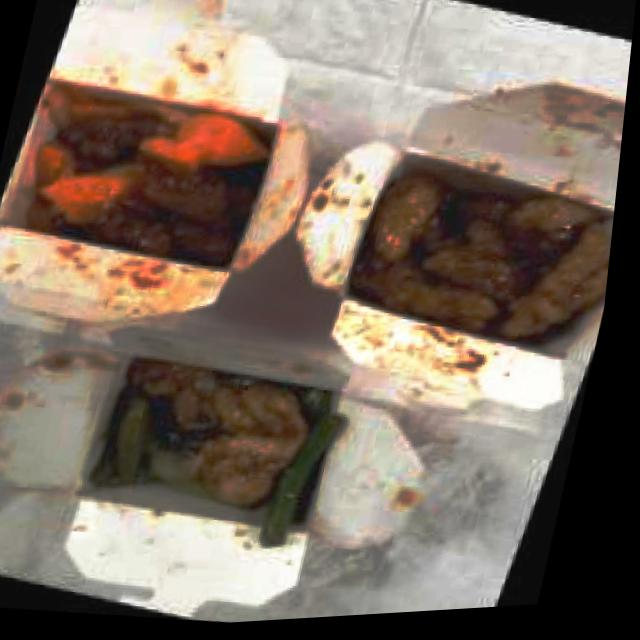Beijing Beef: (12, 82, 286, 281)
Kung Pao Chicken: (334, 143, 621, 363)
String Bean Chicken Breast: (77, 340, 348, 563)
